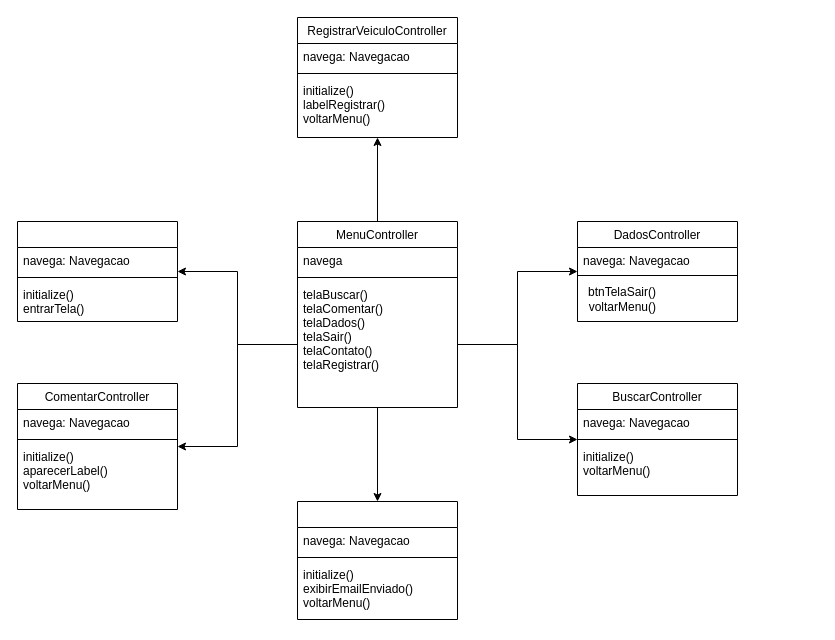
This 835x640 diagram has some shape labels left out. Each missing label, with the box of its shape:
AjudaController: (296, 500, 458, 620)
DocumentController: (16, 220, 178, 322)
